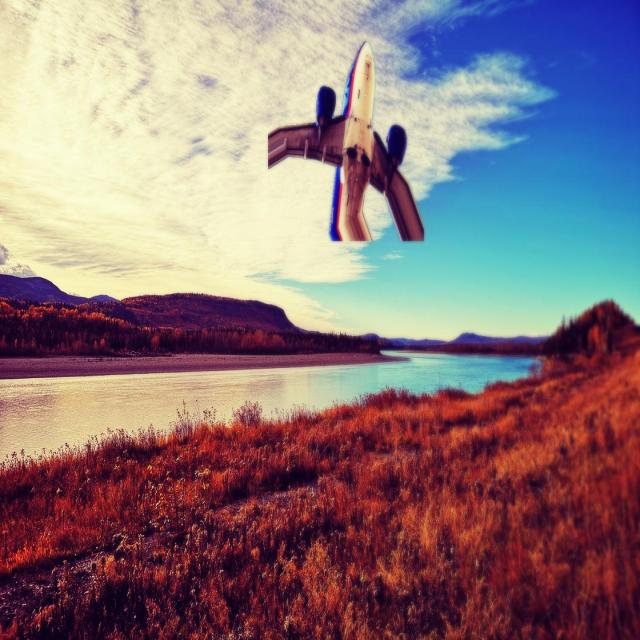airplane: (267, 40, 425, 243)
